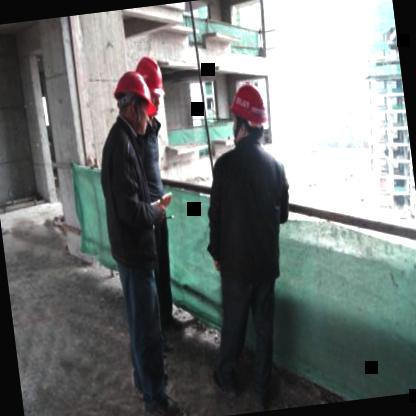helmet: (224, 80, 272, 150), (110, 69, 158, 134), (130, 50, 170, 118)
